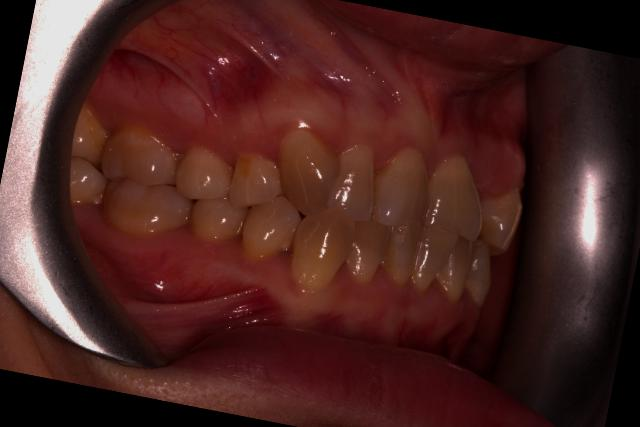canine class II 1/4: (230, 109, 374, 304)
molar class I: (84, 114, 208, 250)
